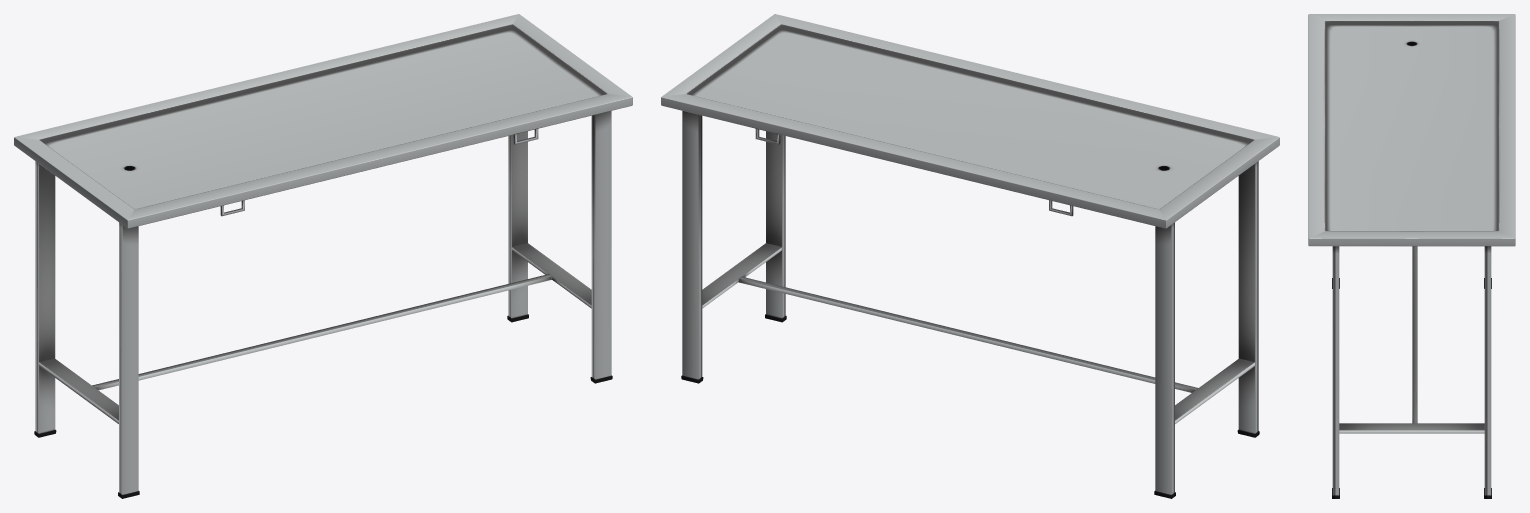
The model's file is Table.fbx.
3 renders of one model, left to right at view 1: azimuth 30°, elevation 25°; view 2: azimuth 150°, elevation 25°; view 3: azimuth 270°, elevation 25°, orthographic. The views are drawn at different scales.
Parts seen in each view (by area): view 1: TABLE_01_V1; view 2: TABLE_01_V1; view 3: TABLE_01_V1.
Boxes of the visible parts, left/top/right/bottom form: TABLE_01_V1: left=14, top=14, right=632, bottom=498; TABLE_01_V1: left=661, top=14, right=1279, bottom=498; TABLE_01_V1: left=1308, top=14, right=1515, bottom=498.
Bounding box in the file's own units: 620 × 340 × 242.
Materials: 1 (1 with a texture image).
